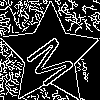M: (25, 30, 83, 90)
